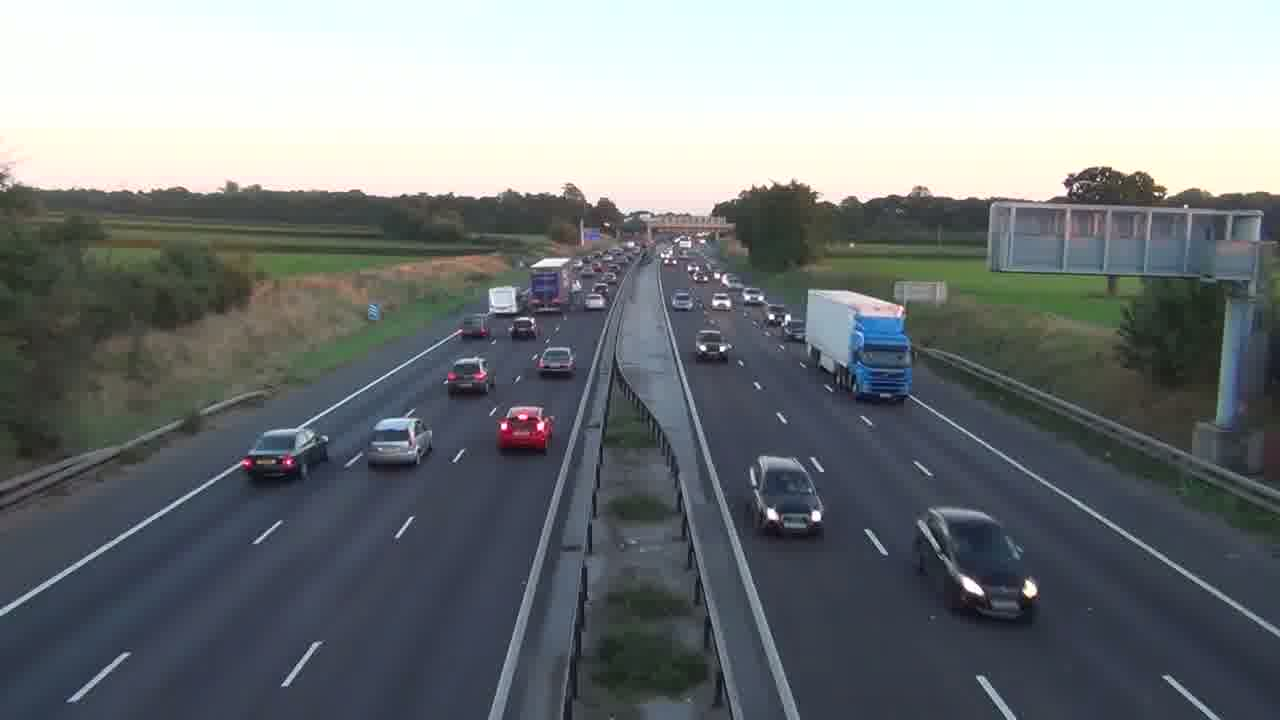car: (913, 505, 1040, 621), (747, 454, 825, 538), (241, 427, 329, 480), (367, 414, 434, 467), (496, 405, 555, 453), (443, 355, 491, 395), (533, 346, 577, 378), (694, 328, 732, 362), (509, 316, 538, 340), (670, 289, 694, 311)
truck: (802, 288, 915, 403), (489, 286, 518, 315)
